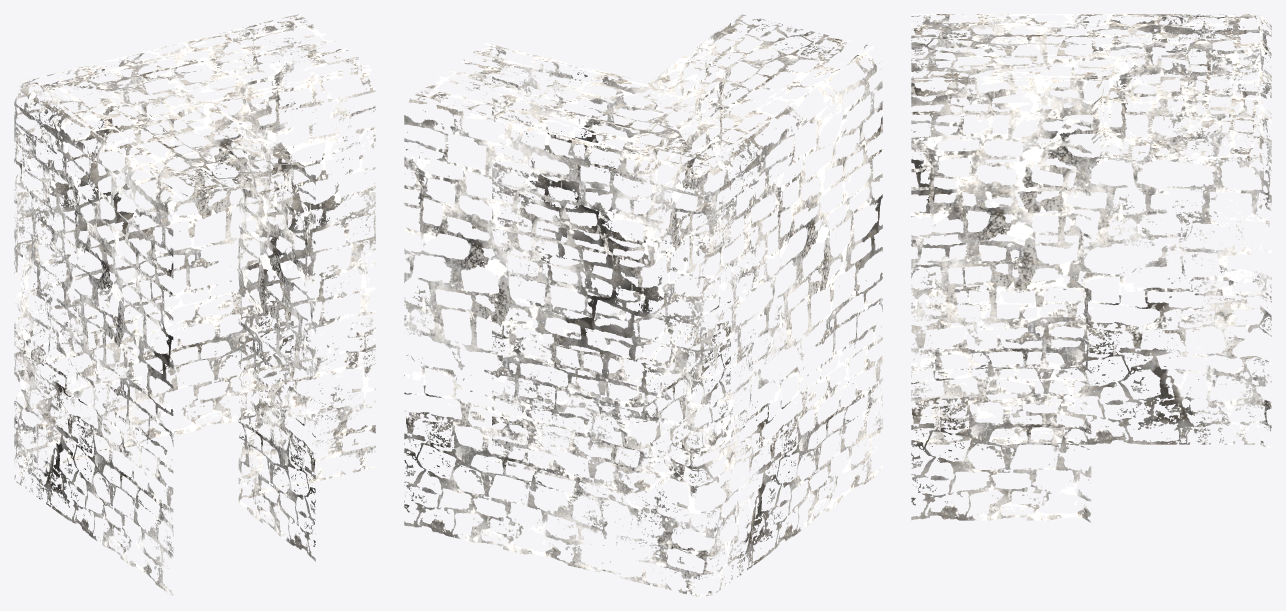
File: SM_basement_A_corner_01_02.fbx
The picture shows the model from 3 angles, left to right: view 1: azimuth 30°, elevation 25°; view 2: azimuth 150°, elevation 25°; view 3: azimuth 270°, elevation 25°; orthographic projection. The views are drawn at different scales.
Parts seen in each view (by area): view 1: SM_basement_A_corner_01_02_LOD0; view 2: SM_basement_A_corner_01_02_LOD0; view 3: SM_basement_A_corner_01_02_LOD0.
Part boxes in pixels (bbox=[...]): SM_basement_A_corner_01_02_LOD0: bbox=[14, 14, 375, 595]; SM_basement_A_corner_01_02_LOD0: bbox=[404, 14, 882, 596]; SM_basement_A_corner_01_02_LOD0: bbox=[911, 14, 1271, 522].
Size of the model in its own units: 150 by 150 by 200.
1 material, 1 textured.
